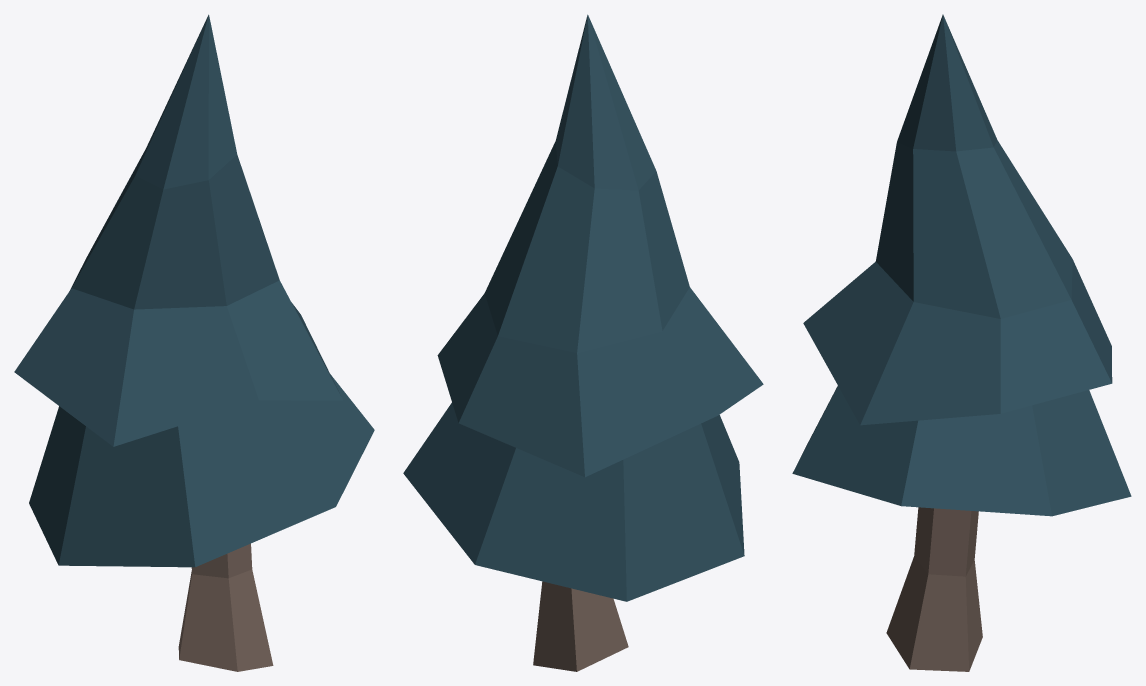
Rendered from fbTree2.fbx.
3 renders of one model, left to right at view 1: azimuth 30°, elevation 25°; view 2: azimuth 150°, elevation 25°; view 3: azimuth 270°, elevation 25°, orthographic. The views are drawn at different scales.
Visible parts, largest first — view 1: fbTreeFir2; view 2: fbTreeFir2; view 3: fbTreeFir2.
Boxes of the visible parts, bbox=[...] form: fbTreeFir2: bbox=[14, 14, 374, 671]; fbTreeFir2: bbox=[403, 14, 763, 671]; fbTreeFir2: bbox=[792, 14, 1131, 671].
Bounding box in the file's own units: 109 × 222 × 107.
